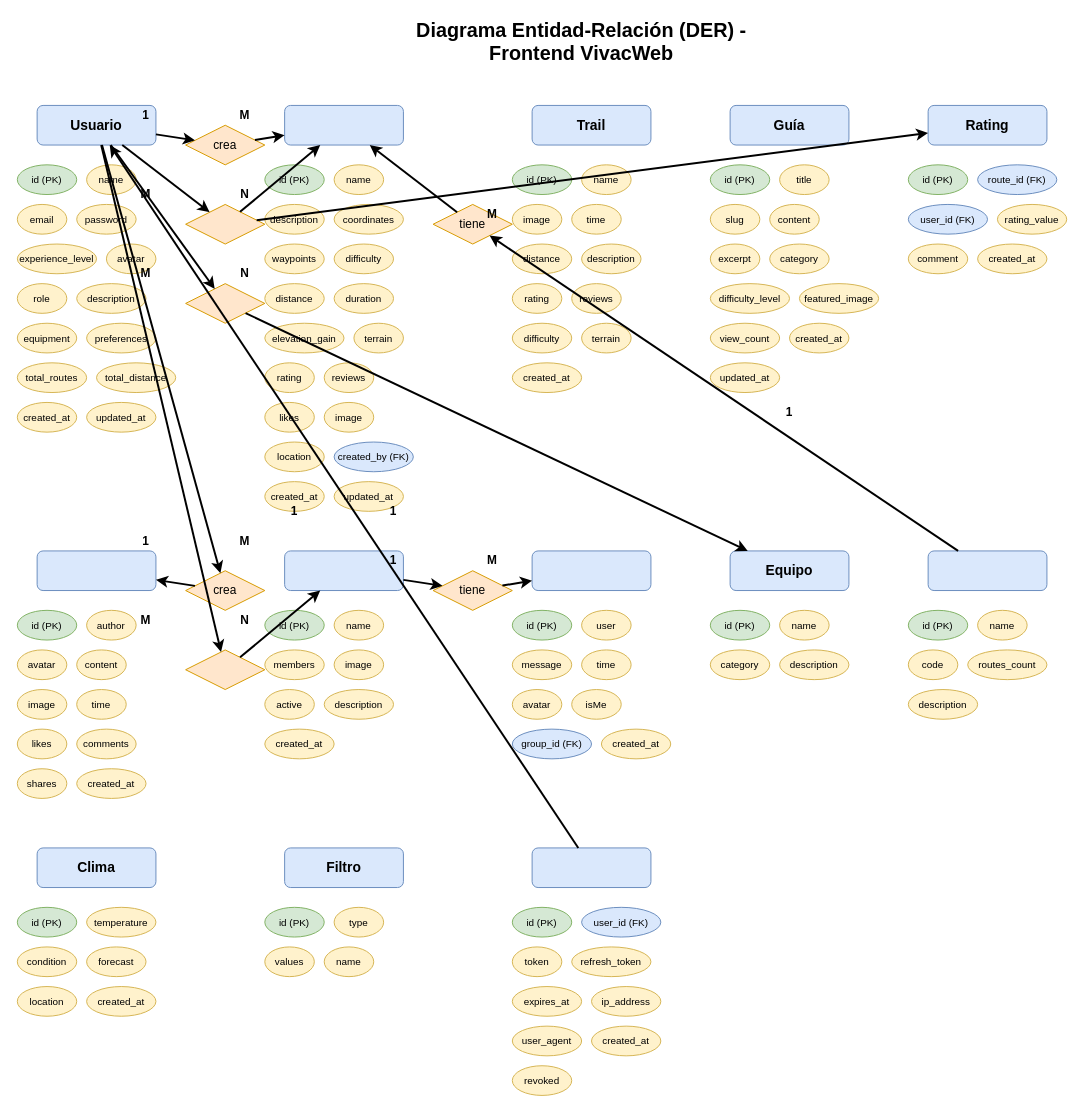
The diagram is 1084 pixels wide and 1113 high, and some of its shapes have lost their labels. The box of each missing label's shape, as (x1, y1, x2, y2) in pixels:
Autenticación: (531, 847, 651, 888)
califica: (185, 203, 265, 244)
Grupo: (284, 550, 403, 591)
Mensaje: (531, 550, 651, 591)
País: (927, 550, 1047, 591)
pertenece: (185, 649, 265, 690)
posee: (185, 283, 265, 323)
Post: (36, 550, 156, 591)
Ruta: (284, 104, 403, 145)
